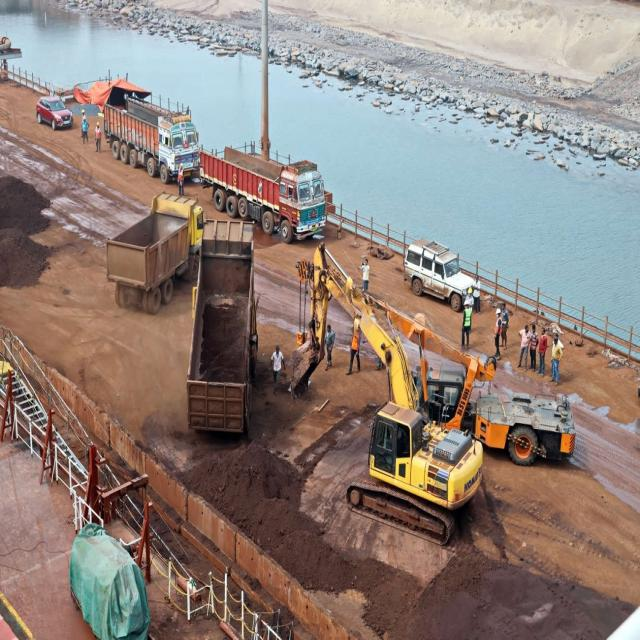car: (404, 240, 474, 311), (36, 96, 74, 129)
truck: (291, 246, 482, 543), (375, 302, 575, 465), (188, 221, 258, 432), (200, 146, 326, 243), (106, 193, 205, 313), (104, 86, 200, 184)
